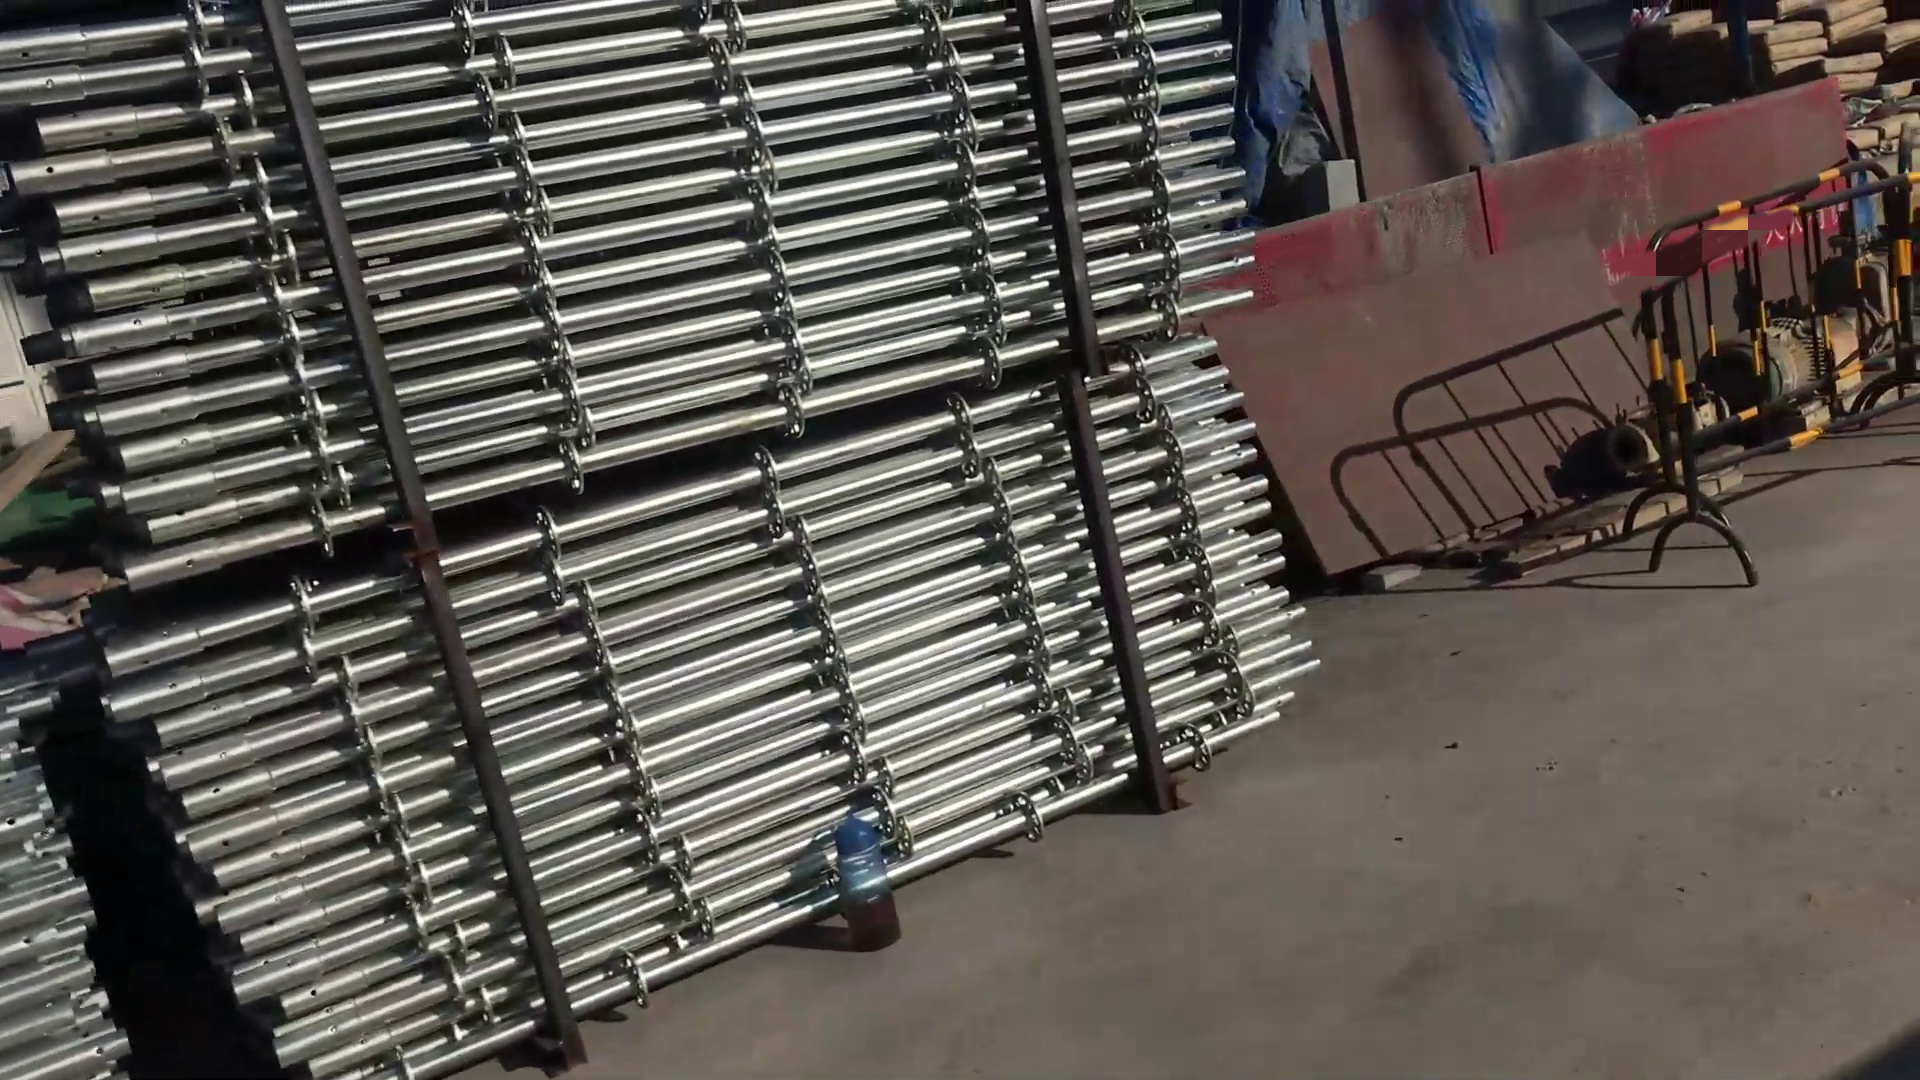fence: (1247, 162, 1655, 568), (1650, 160, 1919, 593)
scaffold: (1, 1, 1305, 1080)
